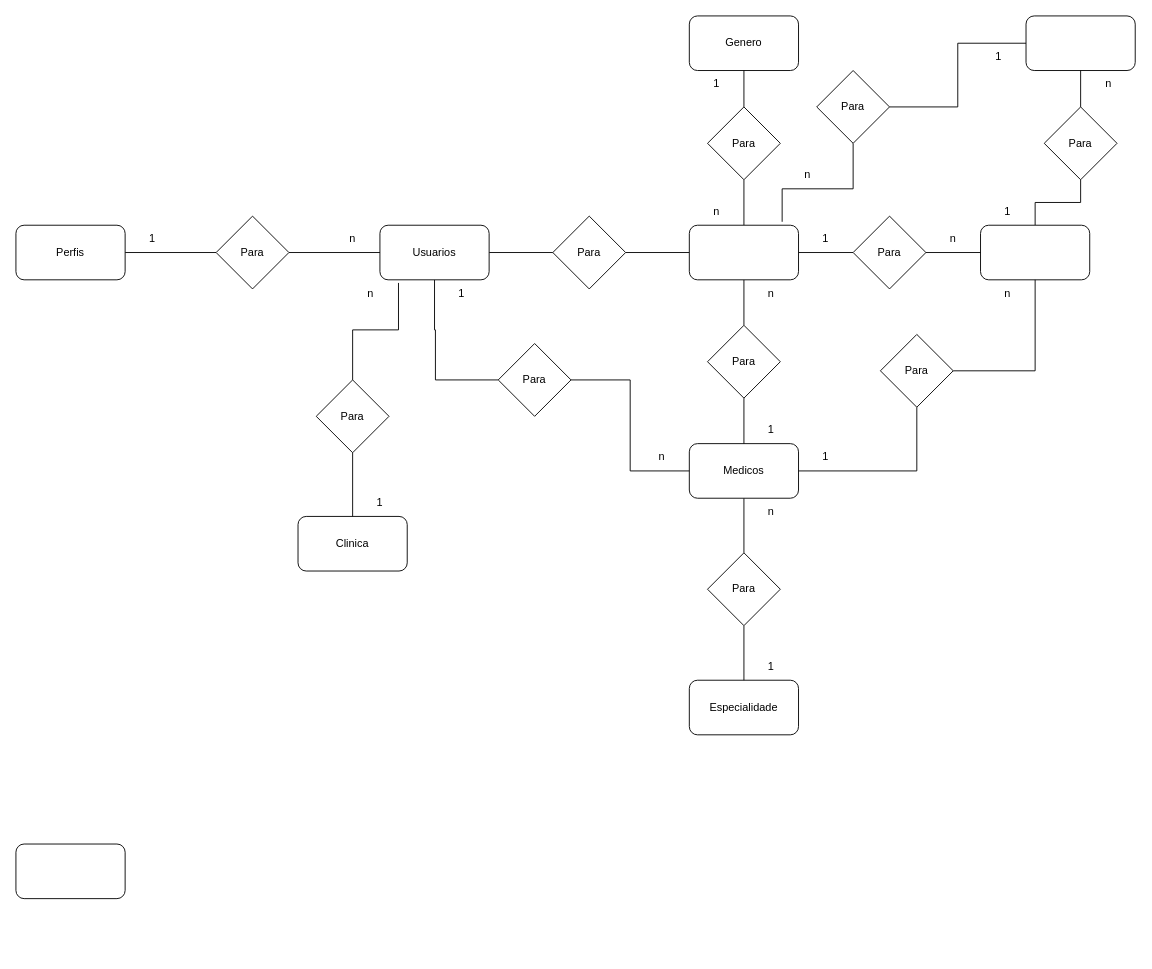
This 1152x969 diagram has some shape labels left out. Each missing label, with the centre of its shape:
"Agendamentos" belongs at point (1080, 43).
"Comentarios" belongs at point (70, 871).
"Consultas" belongs at point (1035, 252).
"Pacientes" belongs at point (743, 252).
